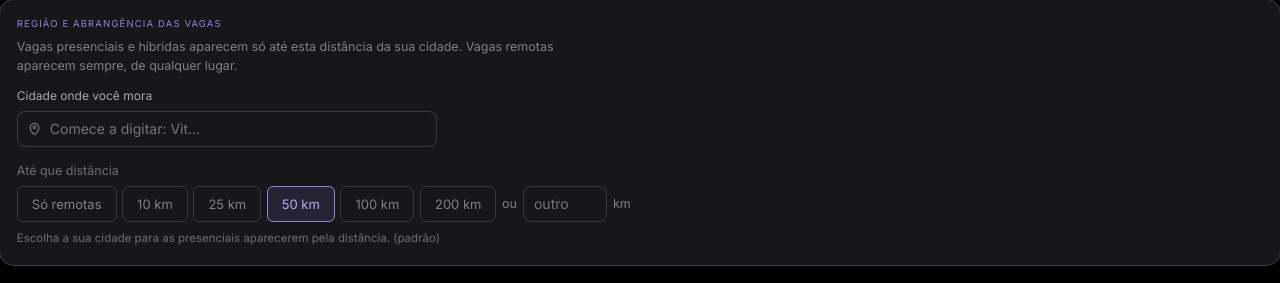
região das vagas › sugere cidades pelo começo do nome e grava a escolhida
Type "Vit" into the dropdown labelled "Cidade onde você mora" at {"x": 227, "y": 129}, box [17,111,437,147]
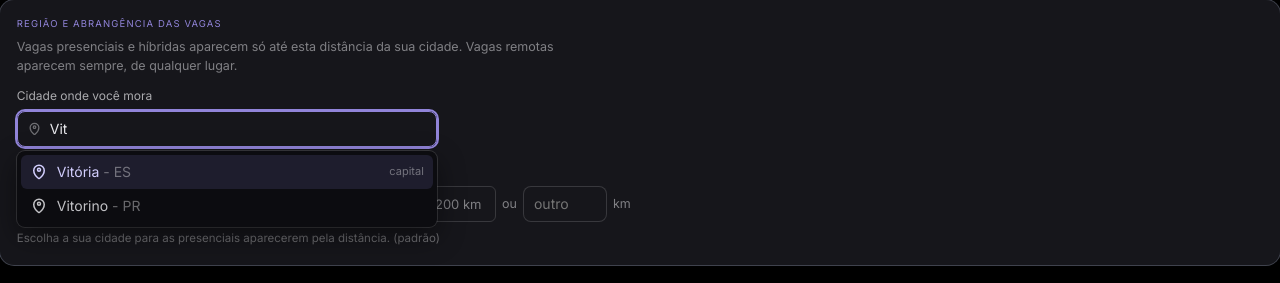
Expected: the option "Vitorino - PR" is shown, [30,197,140,215]
Click the option "Vitória - ES capital" at {"x": 78, "y": 171}, box [21,155,433,189]
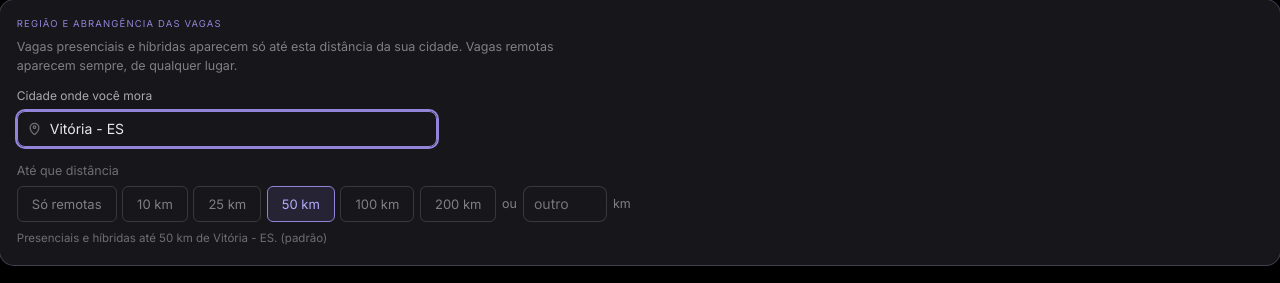
Expected: the dropdown labelled "Cidade onde você mora" holds "Vitória - ES", [17,111,437,147]
Expected: the text "Presenciais e híbridas até 50 km de Vitória - ES. (padrão)" is shown, [17,231,327,245]
